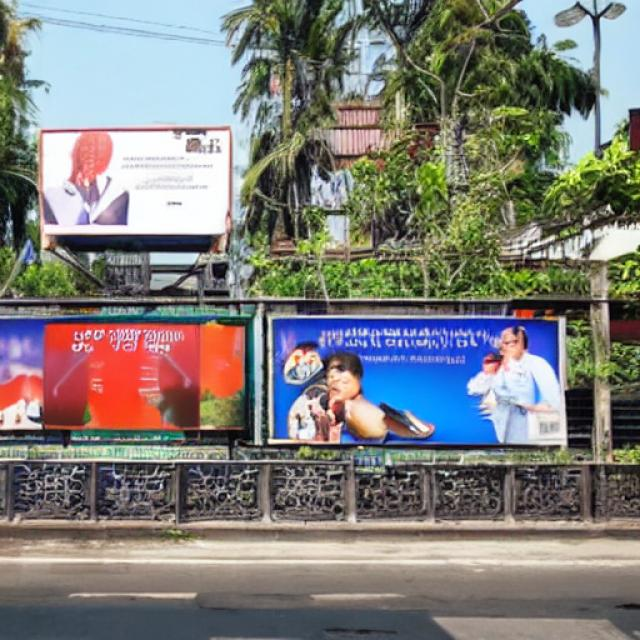Billboard: (267, 312, 569, 454), (0, 316, 256, 448), (42, 126, 235, 243)
